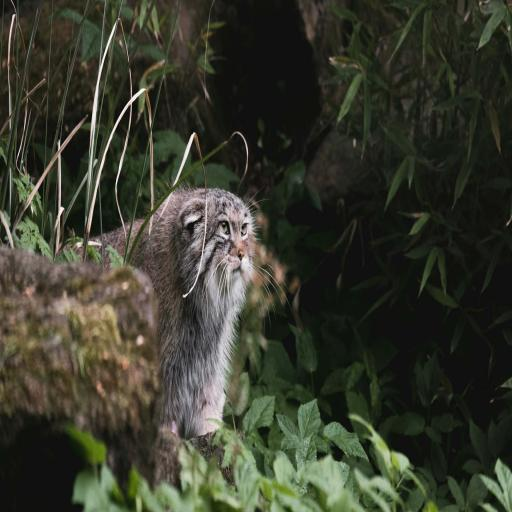manul: (132, 187, 257, 437)
